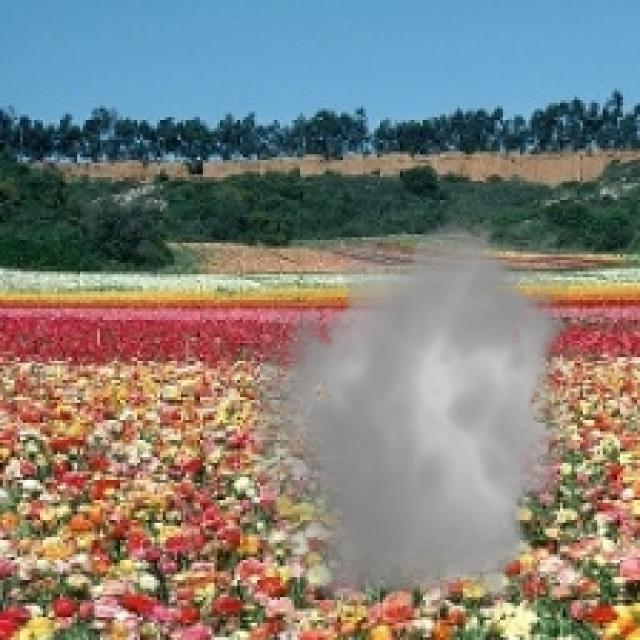Smoke: (240, 203, 586, 623)
